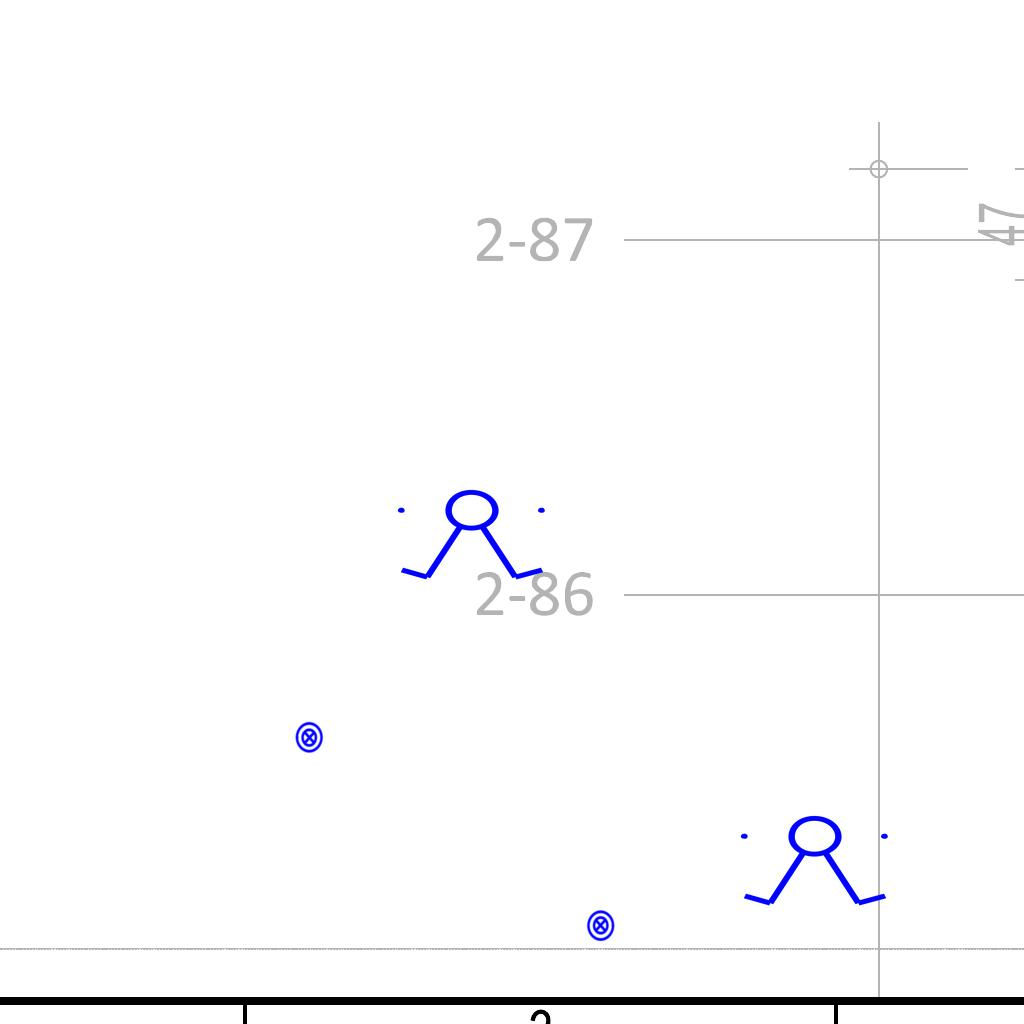Serienschalter: (389, 488, 557, 584), (732, 814, 900, 910)
Taster_beleuchtet: (584, 909, 617, 942), (293, 721, 326, 754)
